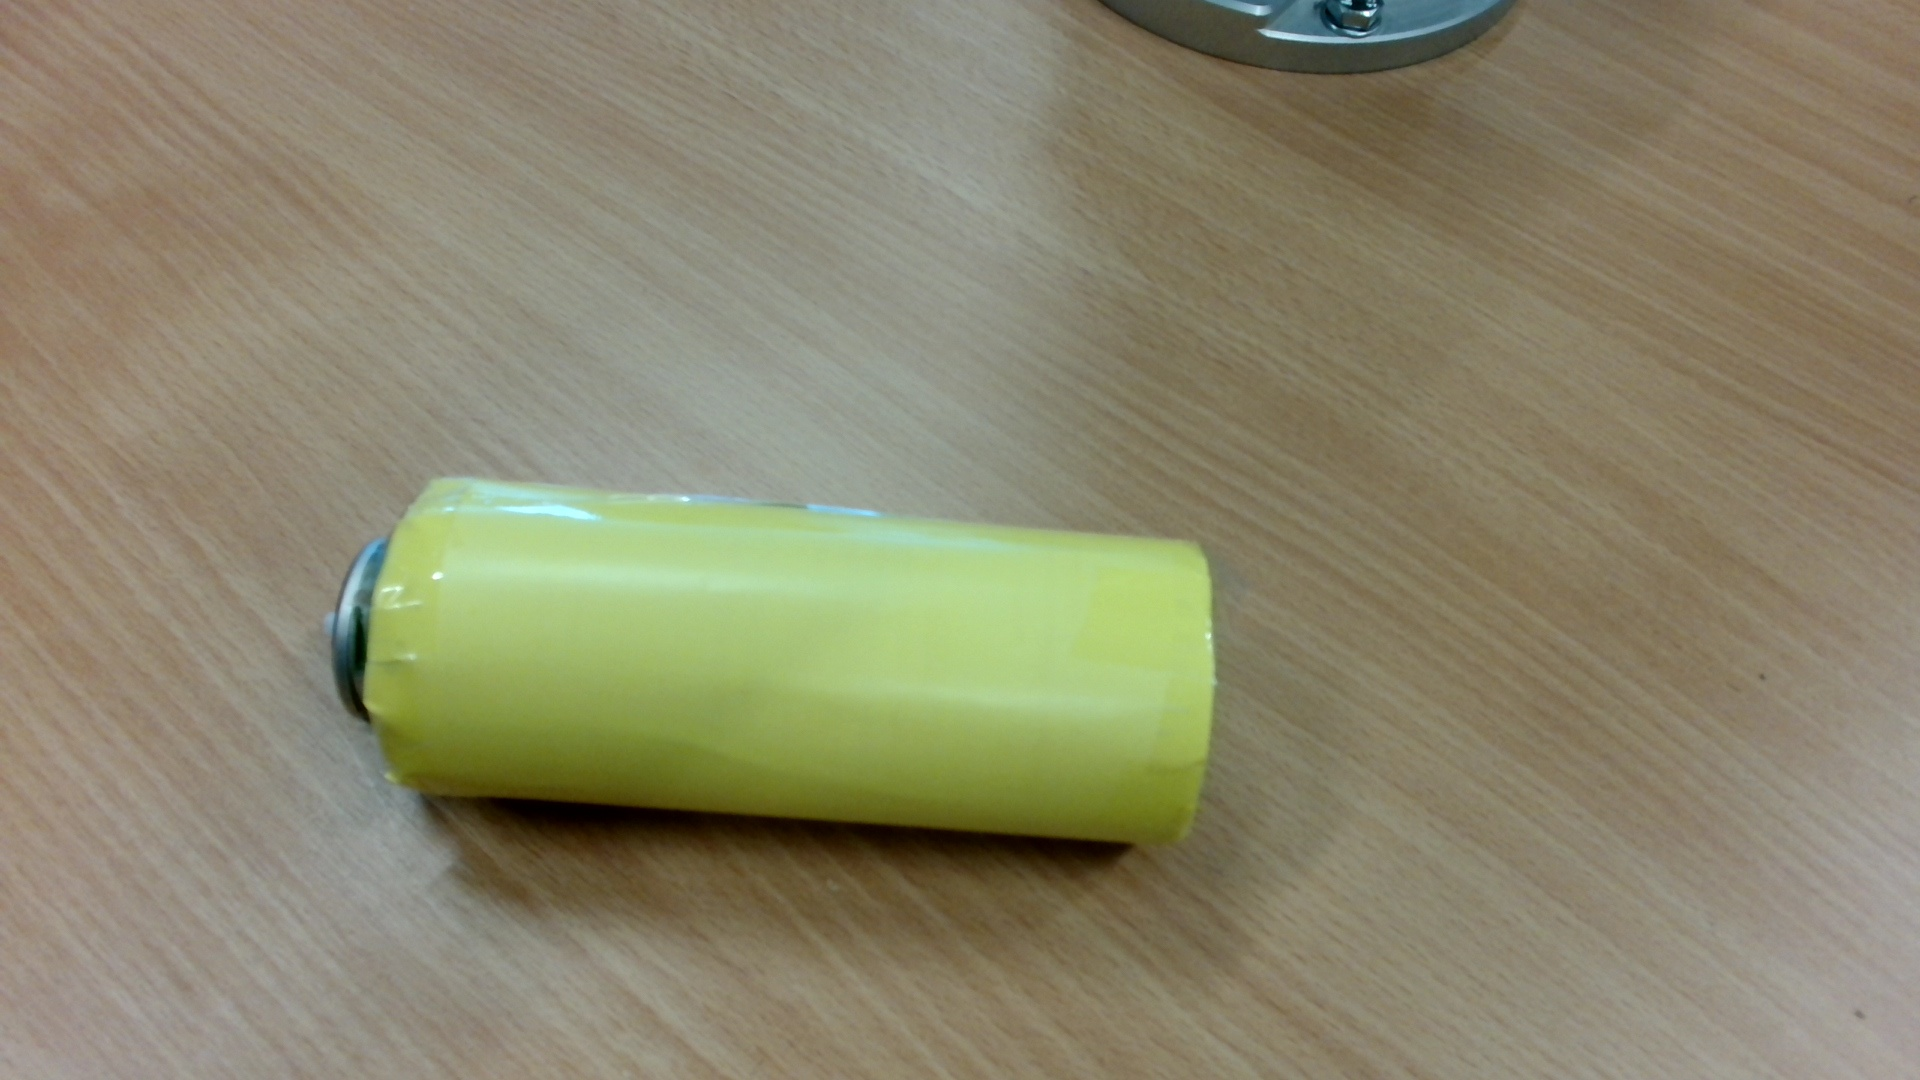Cylinder: (309, 464, 1241, 881)
